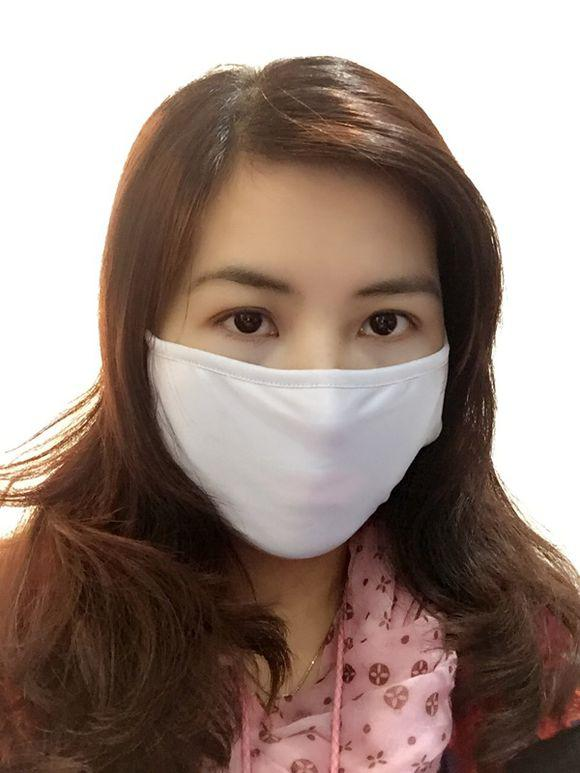OK: (168, 262, 460, 554)
